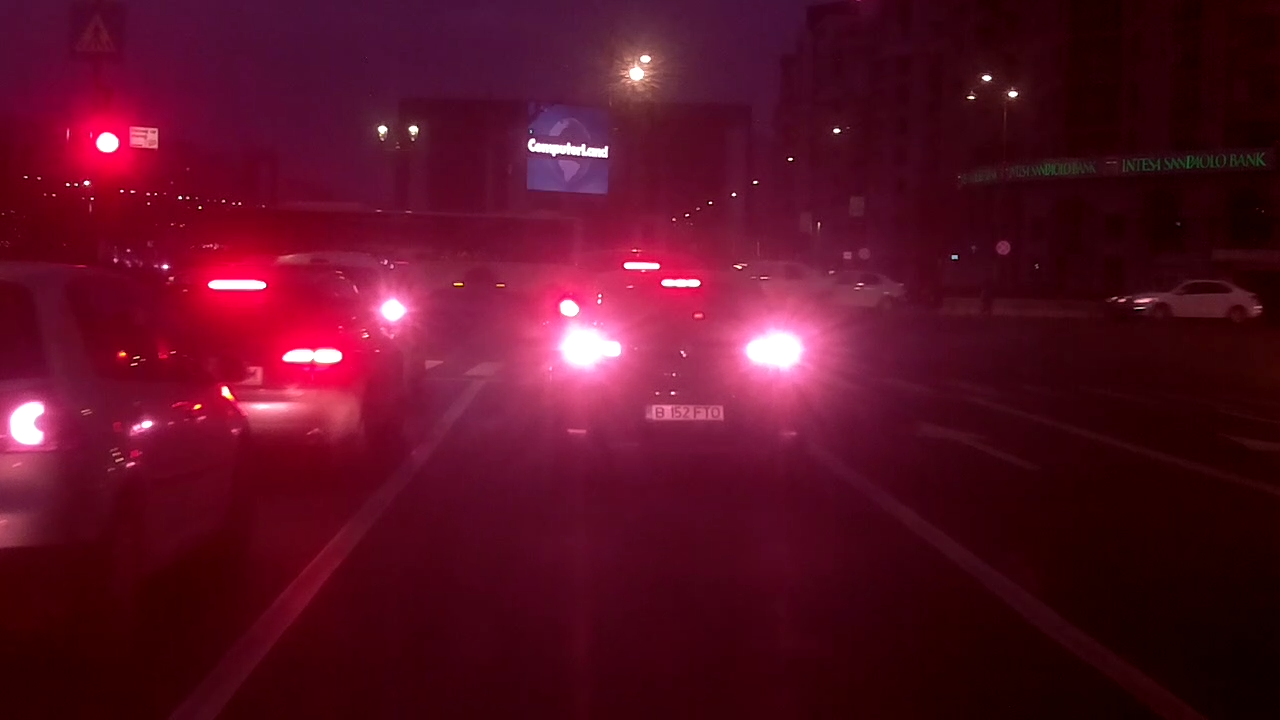license-plate: (640, 401, 728, 424)
